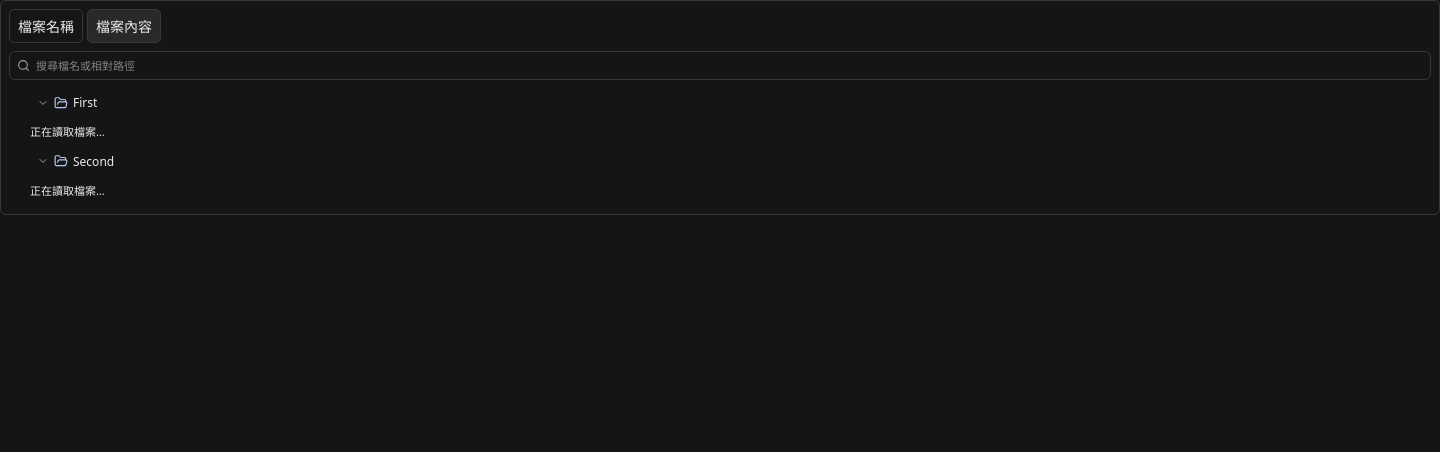
Test: project content search lifecycle › cancels a replaced query and withholds its obsolete reply
Click the button "檔案內容". click: (124, 26)
box: [87, 9, 161, 43]
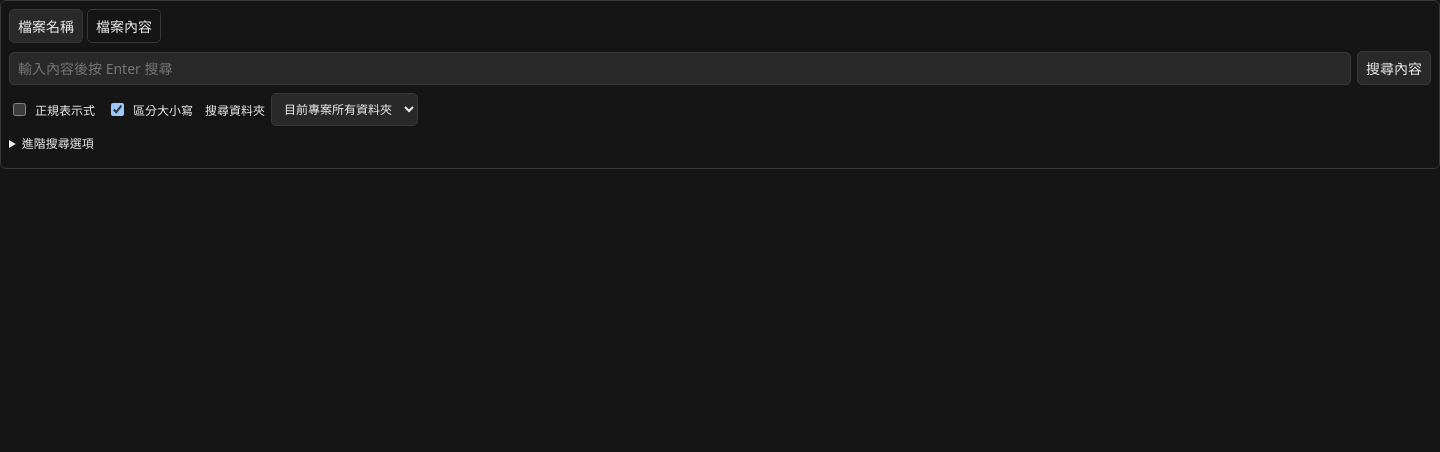
Type "old" into the field named "搜尋專案檔案內容". click: (680, 68)
box: [9, 52, 1351, 84]
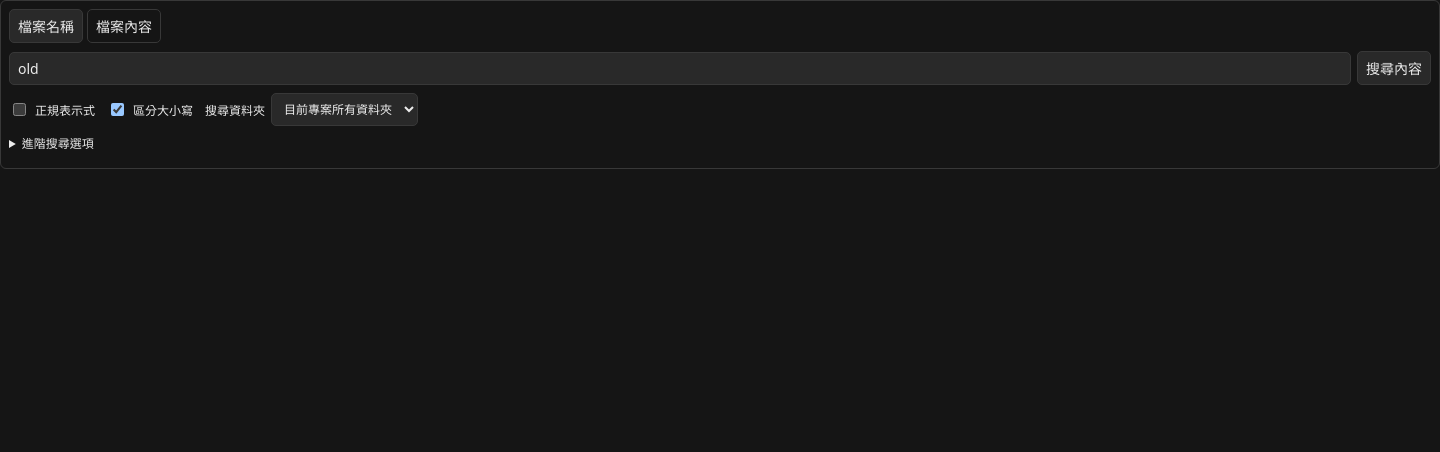
Submit the form named "搜尋檔案內容", box [9, 51, 1431, 152]
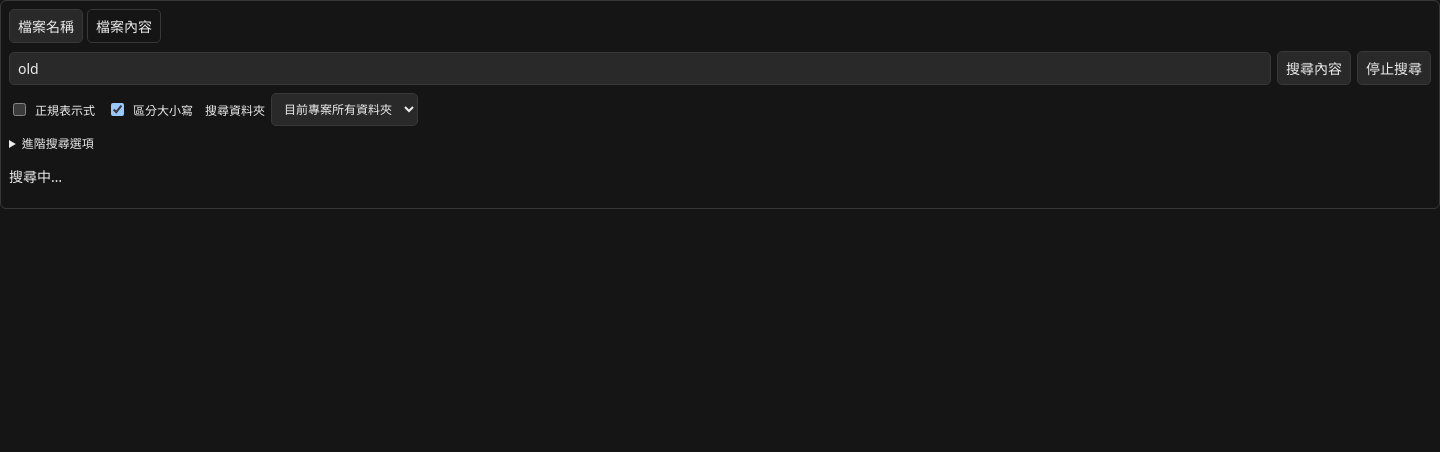
Replace the text in the field named "搜尋專案檔案內容" with "new". click: (640, 68)
box: [9, 52, 1271, 84]
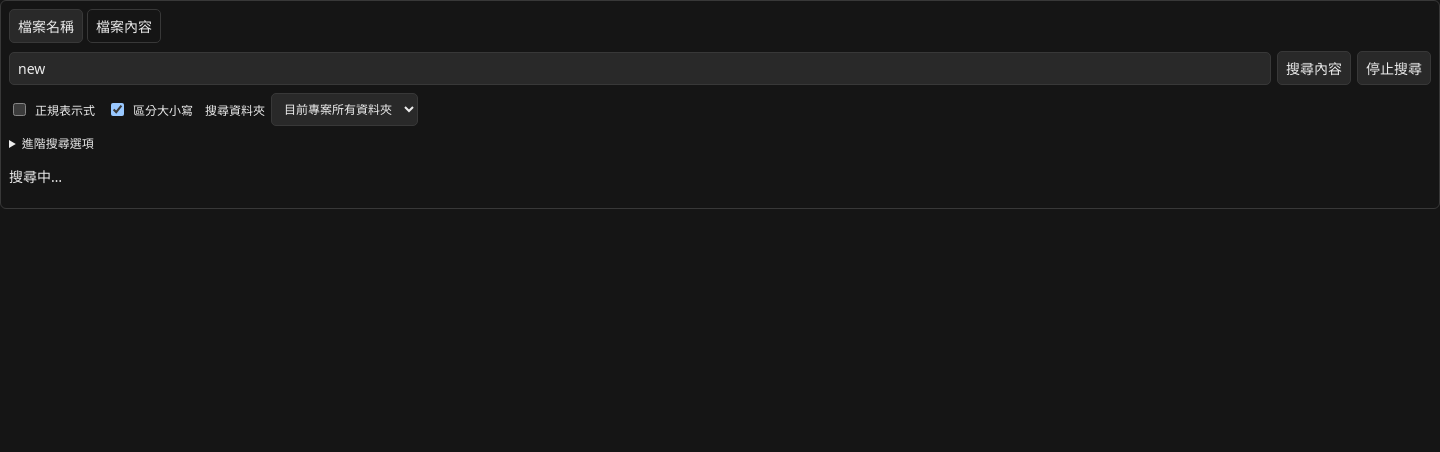
Submit the form named "搜尋檔案內容", box [9, 51, 1431, 152]
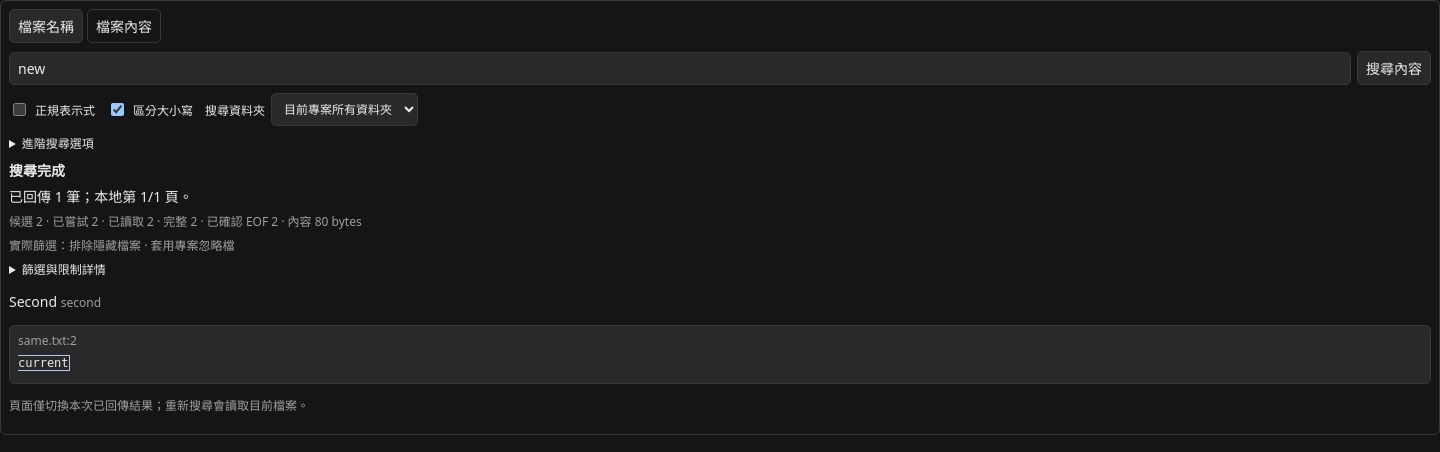
Check: the text "current" is shown, box [18, 356, 69, 370]
